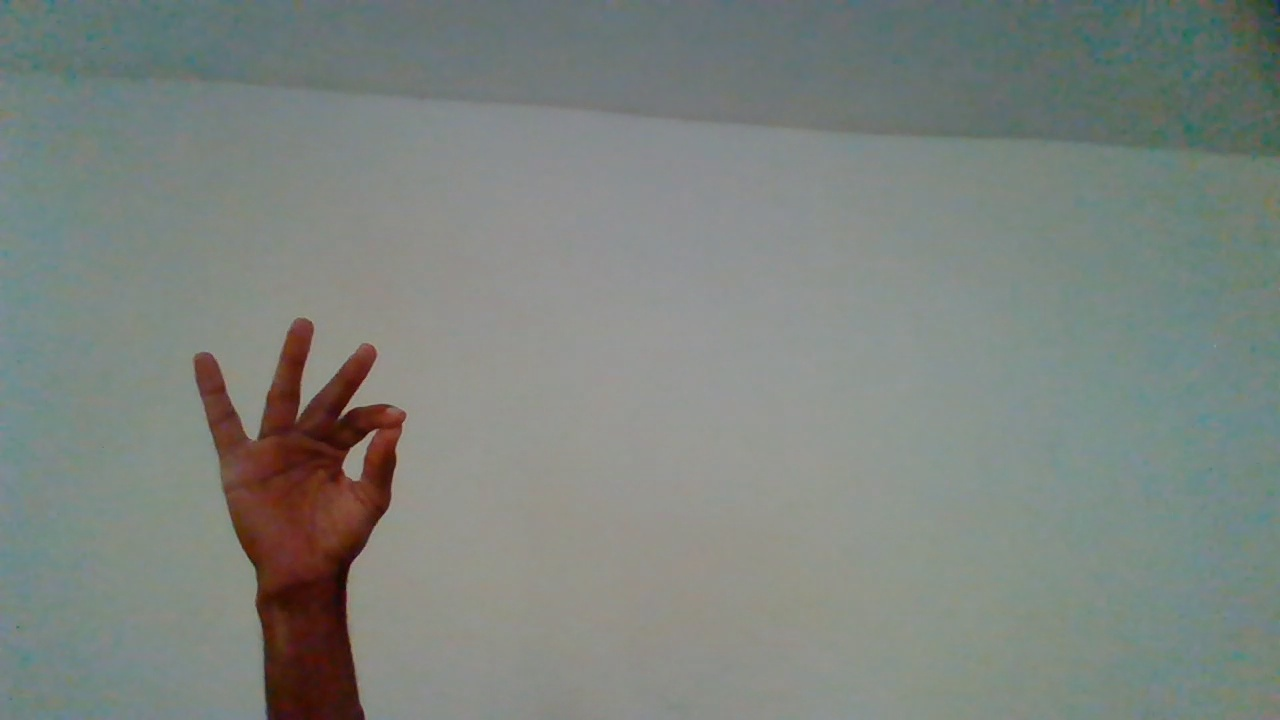le: (193, 319, 407, 698)
